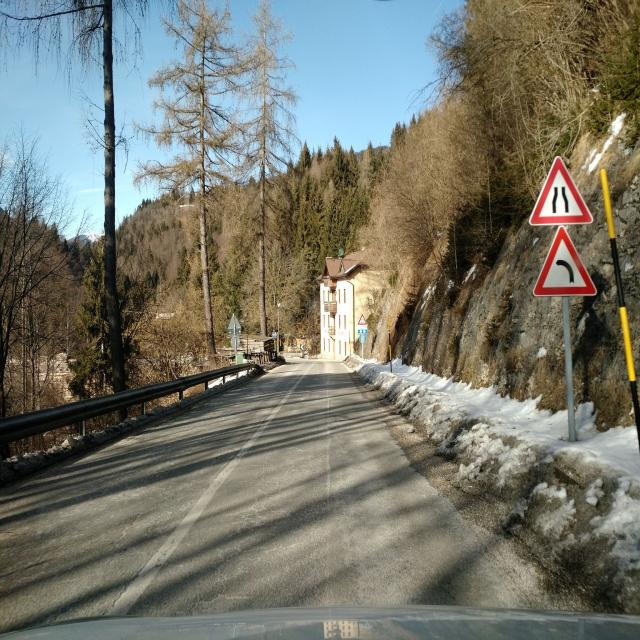car: (4, 452, 44, 478)
